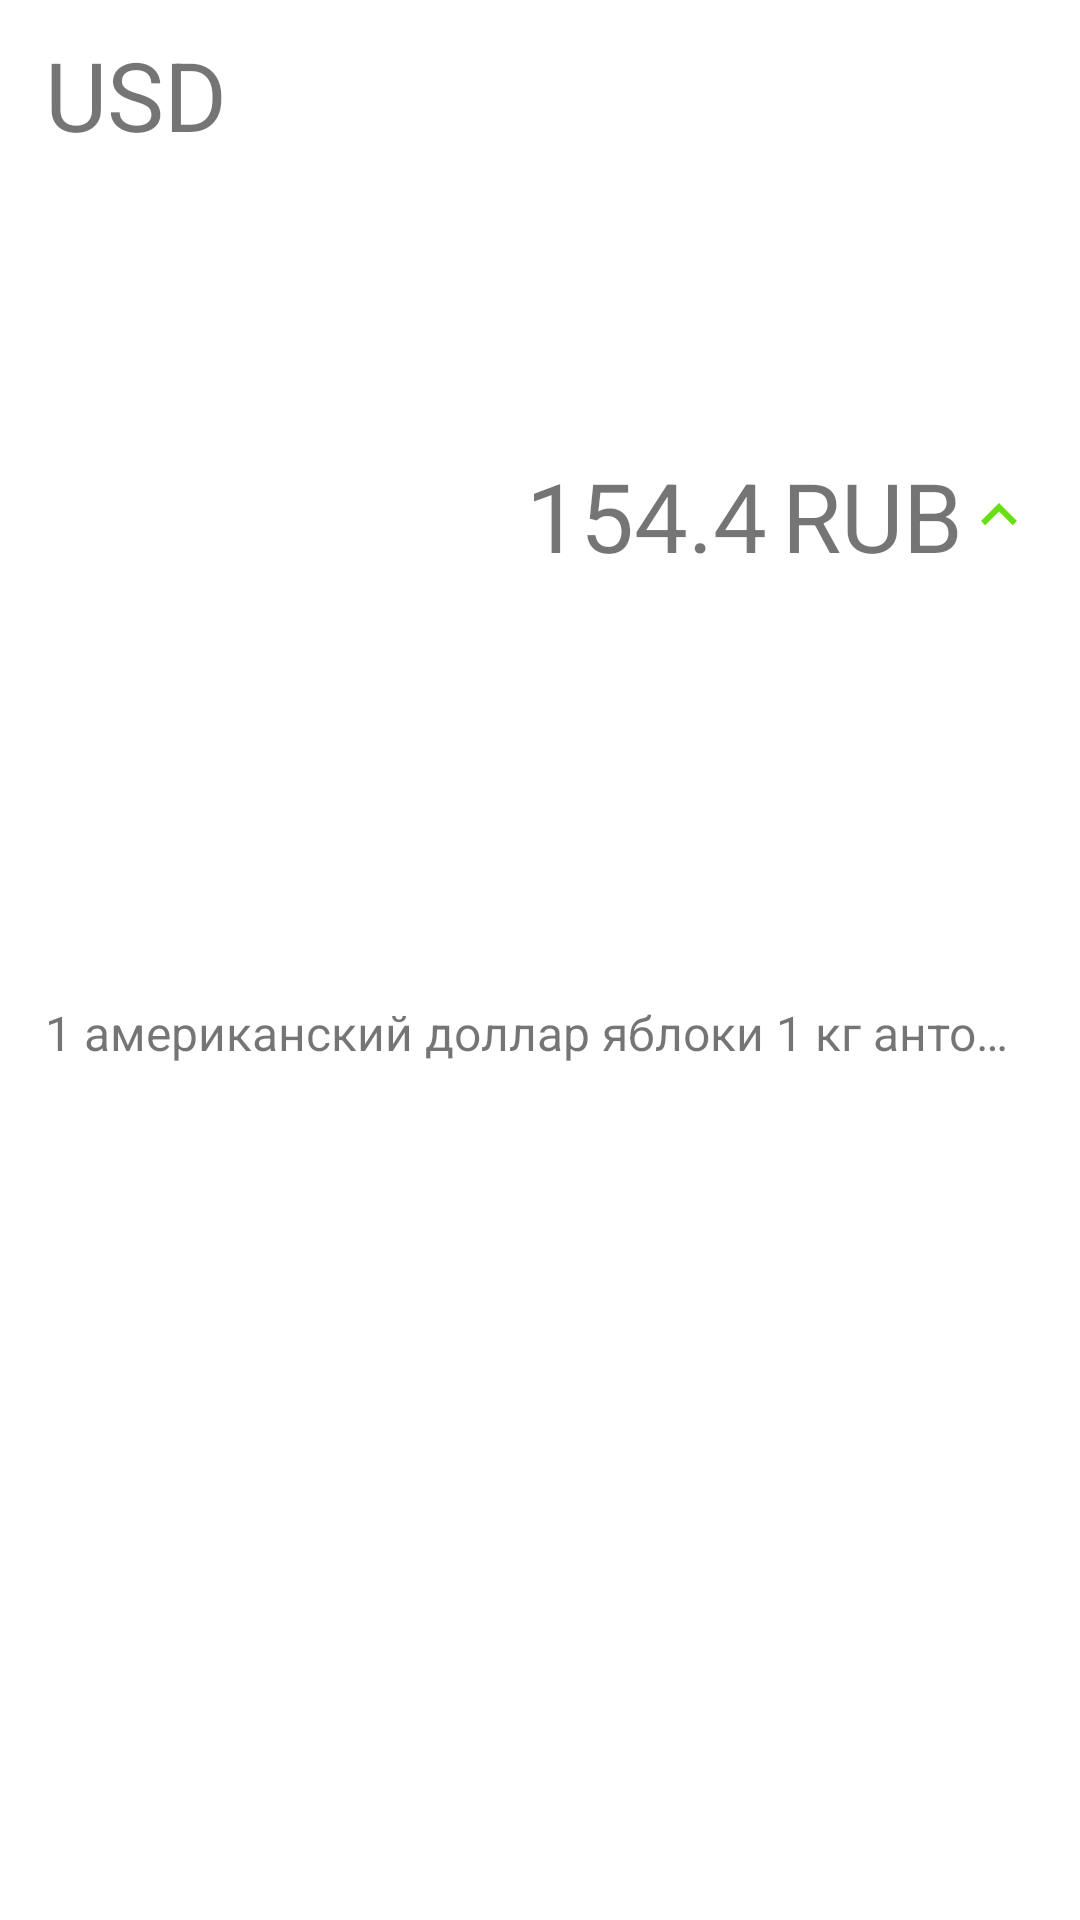

Named icons in this screenshot (1080×1920) and their centers, (x,y):
keyboard arrow up: (999,514)
